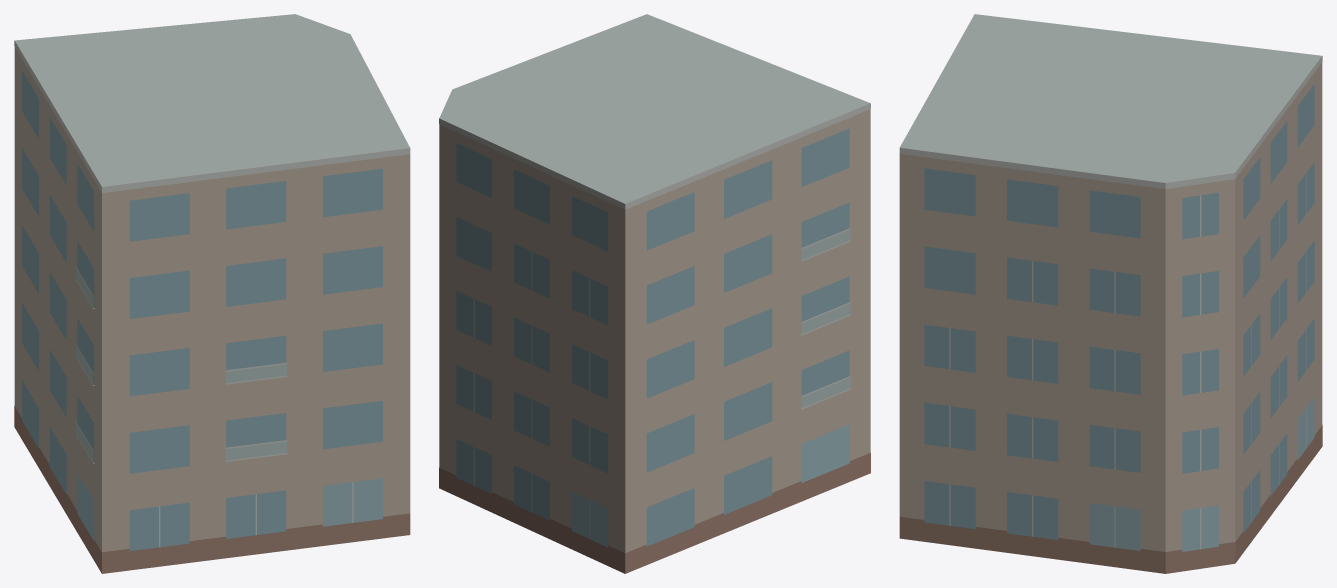
Rendered from survey-upis-32759070.glb.
3 views of the same model, side by side, from view 1: azimuth 30°, elevation 25°; view 2: azimuth 150°, elevation 25°; view 3: azimuth 270°, elevation 25° (orthographic). The views are drawn at different scales.
Visible parts, largest first — view 1: survey-upis-32759070.tmp; view 2: survey-upis-32759070.tmp; view 3: survey-upis-32759070.tmp.
Boxes of the visible parts, x1,y1,x2,y2 form: survey-upis-32759070.tmp: (14, 14, 410, 573); survey-upis-32759070.tmp: (439, 14, 870, 573); survey-upis-32759070.tmp: (899, 14, 1322, 573).
Size of the model in its own units: 14.49 by 15.6 by 15.31.
